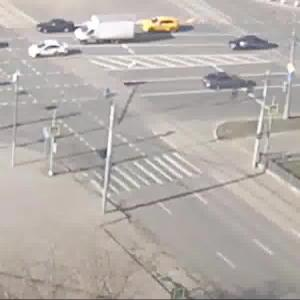car: (73, 15, 137, 51), (201, 70, 269, 97), (136, 14, 182, 39), (30, 40, 77, 64), (224, 36, 273, 56), (35, 18, 75, 39)
